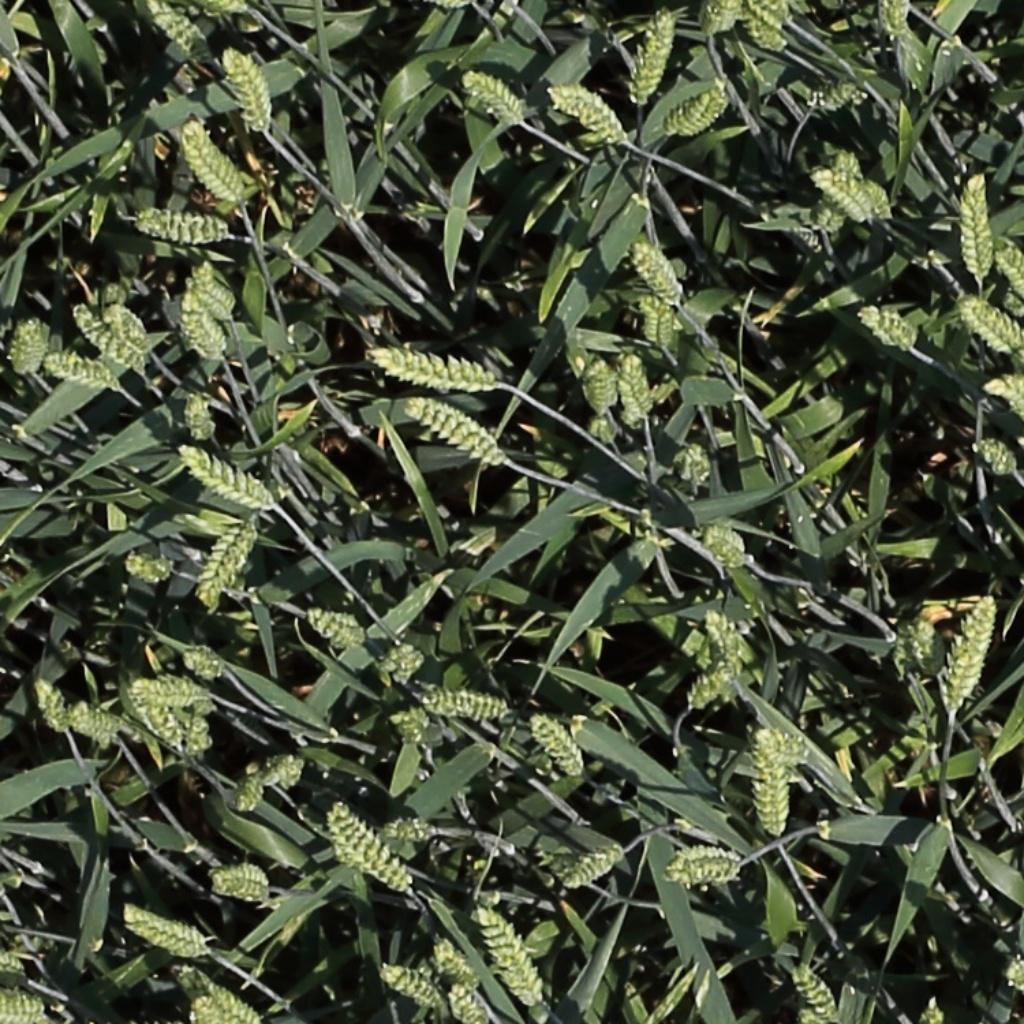0-0: (327, 802, 415, 899), (475, 901, 547, 1011), (740, 728, 800, 846), (370, 348, 503, 399), (940, 596, 994, 719), (409, 397, 506, 465), (178, 114, 248, 204), (178, 445, 274, 509), (177, 963, 272, 1024), (130, 203, 237, 254), (200, 513, 256, 607), (69, 301, 143, 371), (219, 43, 273, 135), (632, 4, 678, 110), (629, 233, 689, 311), (550, 83, 630, 141), (528, 709, 589, 785), (461, 69, 532, 132), (122, 907, 208, 957), (666, 73, 733, 136), (125, 690, 188, 756), (181, 277, 226, 364), (883, 620, 949, 679), (704, 600, 751, 682), (420, 680, 518, 719), (143, 1, 207, 60), (959, 294, 1022, 353), (579, 349, 621, 436), (813, 166, 879, 221), (96, 296, 152, 359), (962, 167, 992, 283), (791, 958, 843, 1024), (379, 963, 449, 1010), (189, 258, 238, 322), (428, 937, 483, 993), (28, 673, 72, 741), (798, 83, 866, 127), (858, 304, 920, 348), (40, 353, 118, 387), (776, 213, 828, 264), (557, 851, 623, 891), (211, 860, 272, 903), (129, 674, 215, 704), (681, 666, 737, 712), (621, 348, 651, 432), (304, 607, 364, 649), (641, 286, 675, 356), (12, 311, 45, 382), (857, 170, 901, 223), (701, 522, 750, 569), (756, 0, 805, 46), (262, 749, 311, 795), (445, 978, 491, 1024), (992, 238, 1024, 303), (185, 386, 217, 449), (383, 643, 424, 692), (232, 767, 267, 819), (759, 730, 812, 764), (973, 438, 1018, 477), (68, 709, 122, 741), (685, 435, 712, 494), (740, 14, 784, 50), (666, 864, 744, 883), (184, 709, 210, 764), (704, 1, 741, 39), (0, 999, 56, 1024), (122, 555, 173, 581), (182, 649, 225, 679), (189, 993, 229, 1024), (884, 0, 910, 47), (198, 0, 266, 14), (0, 940, 25, 978), (921, 989, 947, 1024)
